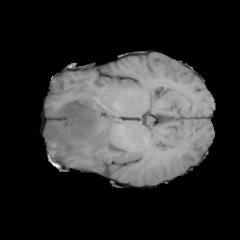glioma: (48, 87, 128, 170)
